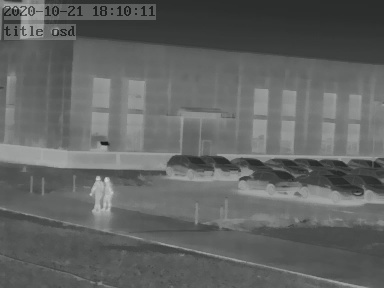person: (89, 174, 104, 213), (101, 177, 113, 210)
vehicle: (301, 173, 362, 202), (238, 169, 304, 195), (165, 153, 211, 179), (204, 153, 242, 177), (357, 175, 384, 203), (262, 155, 300, 171), (233, 155, 270, 171), (347, 156, 378, 170), (317, 156, 347, 169), (296, 156, 324, 169)
